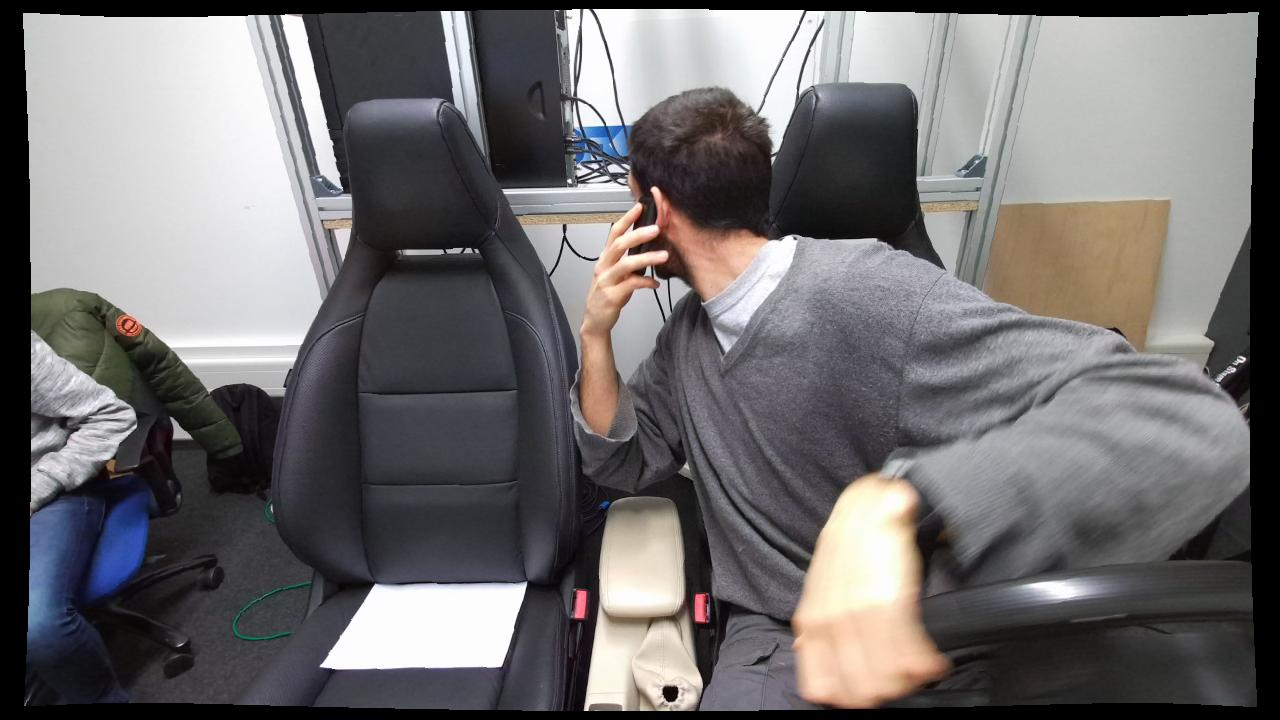Distracted: (569, 87, 997, 712), (569, 91, 999, 710)
PhoneUse: (582, 184, 674, 328)
